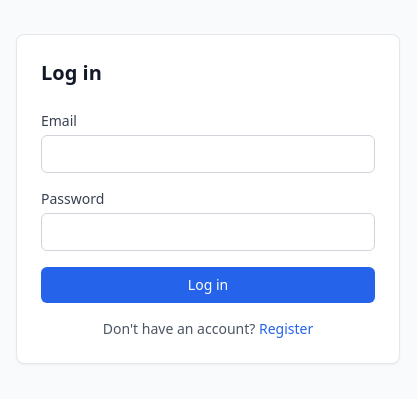
Test: LoginPage › shows an error message when login fails
Type "user@example.com" into the field labelled "Email".
click(208, 154); type("user@example.com")  # box [41, 135, 375, 173]
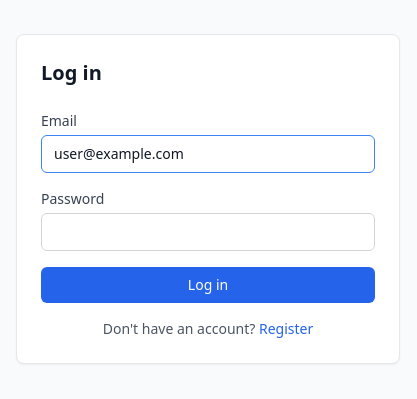
Type "wrong" into the password field labelled "Password".
click(208, 232); type("wrong")  # box [41, 213, 375, 251]
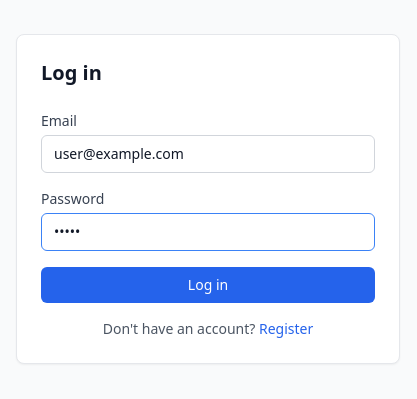
Click the button "Log in".
click(208, 285)  # box [41, 267, 375, 303]
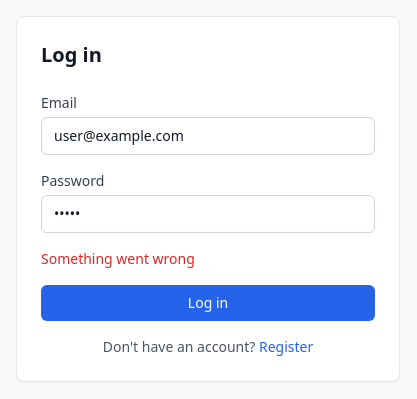
Result: the text "Something went wrong" is shown at [41, 249, 195, 268]
